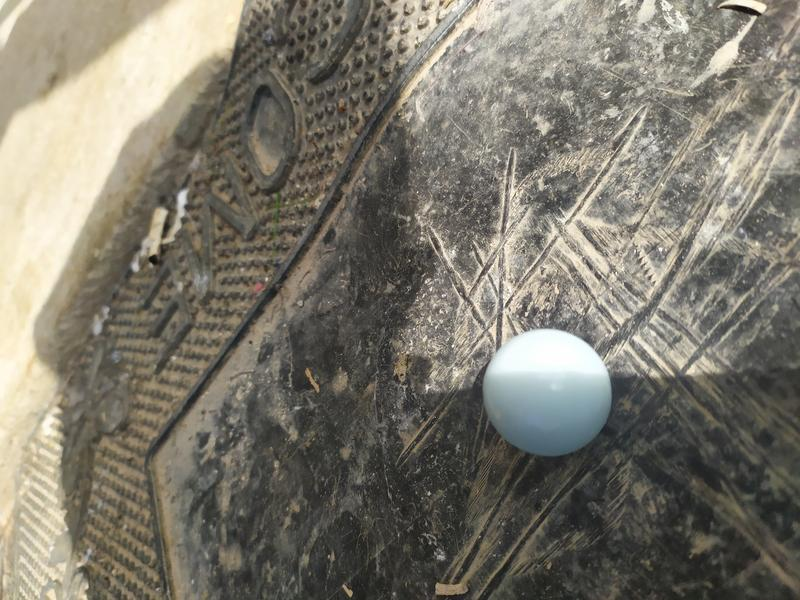Warning: (479, 325, 615, 459)
